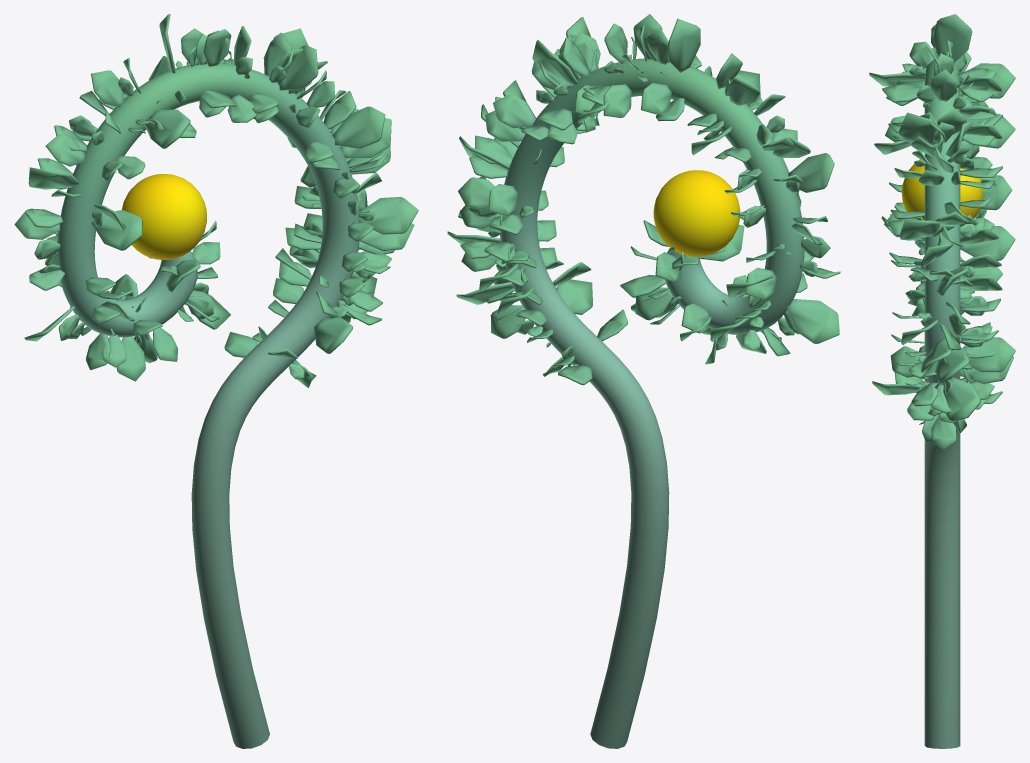
The model's file is curlyplant 1.fbx.
The picture shows the model from 3 angles, left to right: view 1: azimuth 30°, elevation 25°; view 2: azimuth 150°, elevation 25°; view 3: azimuth 270°, elevation 25°; orthographic projection. The views are drawn at different scales.
Visible parts, largest first — view 1: plant, plant_pulp, plant|leaf|Dupli|159, plant|leaf|Dupli|183, plant|leaf|Dupli|63, plant|leaf|Dupli|135, plant|leaf|Dupli|95, plant|leaf|Dupli|231, plant|leaf|Dupli|94, plant|leaf|Dupli|71, plant|leaf|Dupli|27, plant|leaf|Dupli|78 (+5 smaller); view 2: plant, plant_pulp, plant|leaf|Dupli|47, plant|leaf|Dupli|103, plant|leaf|Dupli|71, plant|leaf|Dupli|158, plant|leaf|Dupli|231, plant|leaf|Dupli|143, plant|leaf|Dupli|182, plant|leaf|Dupli|118, plant|leaf|Dupli|102, plant|leaf|Dupli|174 (+7 smaller); view 3: plant, plant_pulp, plant|leaf|Dupli|103, plant|leaf|Dupli|207, plant|leaf|Dupli|215, plant|leaf|Dupli|39, plant|leaf|Dupli|135, plant|leaf|Dupli|199, plant|leaf|Dupli|159, plant|leaf|Dupli|55, plant|leaf|Dupli|120, plant|leaf|Dupli|87 (+35 smaller).
Part boxes in pixels (x1,y1,x2,y2): plant: (57, 63, 359, 748); plant_pulp: (122, 174, 206, 259); plant|leaf|Dupli|159: (332, 106, 385, 148); plant|leaf|Dupli|183: (359, 197, 418, 234); plant|leaf|Dupli|63: (91, 210, 142, 250); plant|leaf|Dupli|135: (277, 45, 318, 90); plant|leaf|Dupli|95: (148, 109, 190, 148); plant|leaf|Dupli|231: (314, 317, 352, 353); plant|leaf|Dupli|94: (91, 70, 124, 107); plant|leaf|Dupli|71: (28, 167, 78, 189); plant|leaf|Dupli|27: (116, 336, 145, 381); plant|leaf|Dupli|78: (45, 133, 85, 166); plant: (499, 58, 804, 748); plant_pulp: (653, 170, 740, 256); plant|leaf|Dupli|47: (786, 299, 839, 343); plant|leaf|Dupli|103: (668, 18, 700, 72); plant|leaf|Dupli|71: (788, 153, 834, 192); plant|leaf|Dupli|158: (493, 94, 535, 128); plant|leaf|Dupli|231: (556, 279, 592, 314); plant|leaf|Dupli|143: (532, 40, 578, 85); plant|leaf|Dupli|182: (458, 177, 495, 209); plant|leaf|Dupli|118: (603, 84, 631, 117); plant|leaf|Dupli|102: (640, 83, 671, 114); plant|leaf|Dupli|174: (488, 184, 518, 215); plant: (924, 58, 960, 748); plant_pulp: (902, 159, 983, 220); plant|leaf|Dupli|103: (933, 14, 972, 62); plant|leaf|Dupli|207: (962, 337, 1015, 372); plant|leaf|Dupli|215: (943, 377, 980, 421); plant|leaf|Dupli|39: (960, 226, 1015, 260); plant|leaf|Dupli|135: (899, 112, 938, 145); plant|leaf|Dupli|199: (935, 349, 969, 383); plant|leaf|Dupli|159: (900, 220, 939, 240); plant|leaf|Dupli|55: (980, 175, 1012, 210); plant|leaf|Dupli|120: (931, 69, 957, 101); plant|leaf|Dupli|87: (969, 63, 1015, 98).
Size of what is drawn, in the model's own units: 7.07 by 13.06 by 2.47.
Materials: 1 (1 with a texture image).
